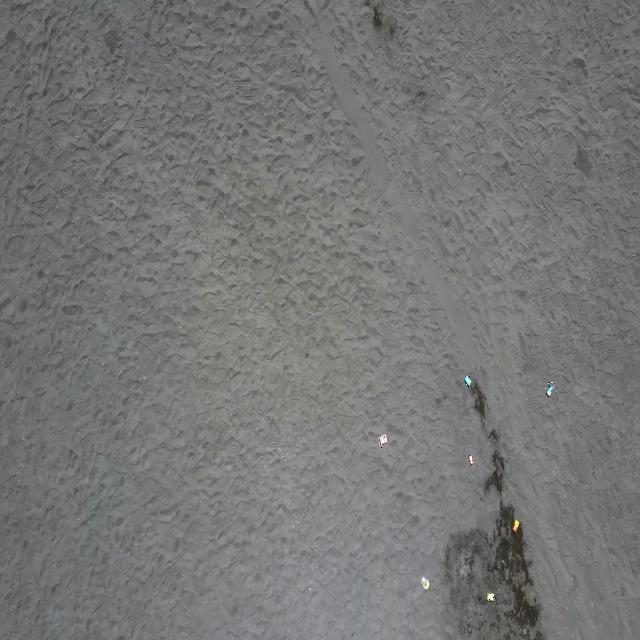Garbage: (377, 433, 387, 447), (546, 381, 555, 395), (420, 576, 428, 588), (512, 519, 519, 532), (464, 375, 472, 386), (467, 453, 473, 464), (487, 592, 493, 600)
